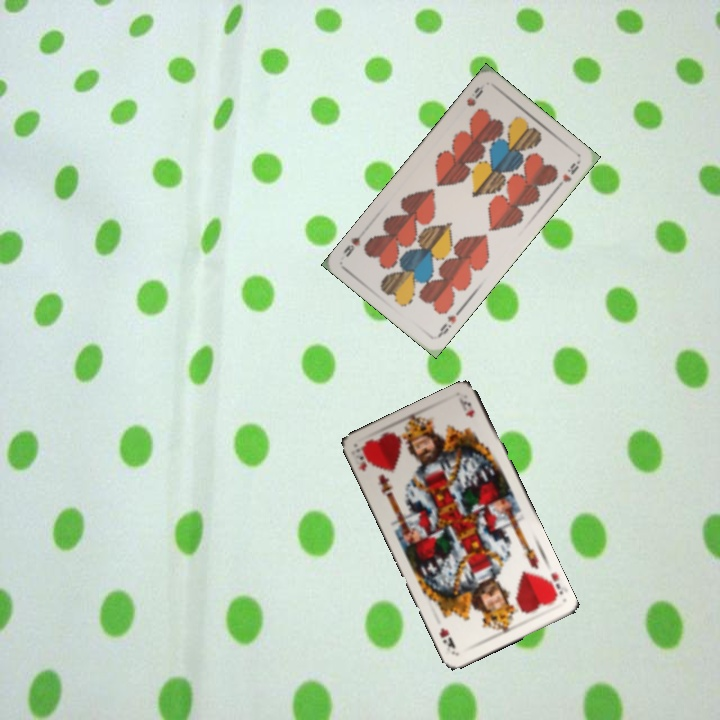H9: (434, 311, 459, 340), (462, 83, 486, 109)
HK: (538, 568, 566, 603), (348, 443, 375, 474)
